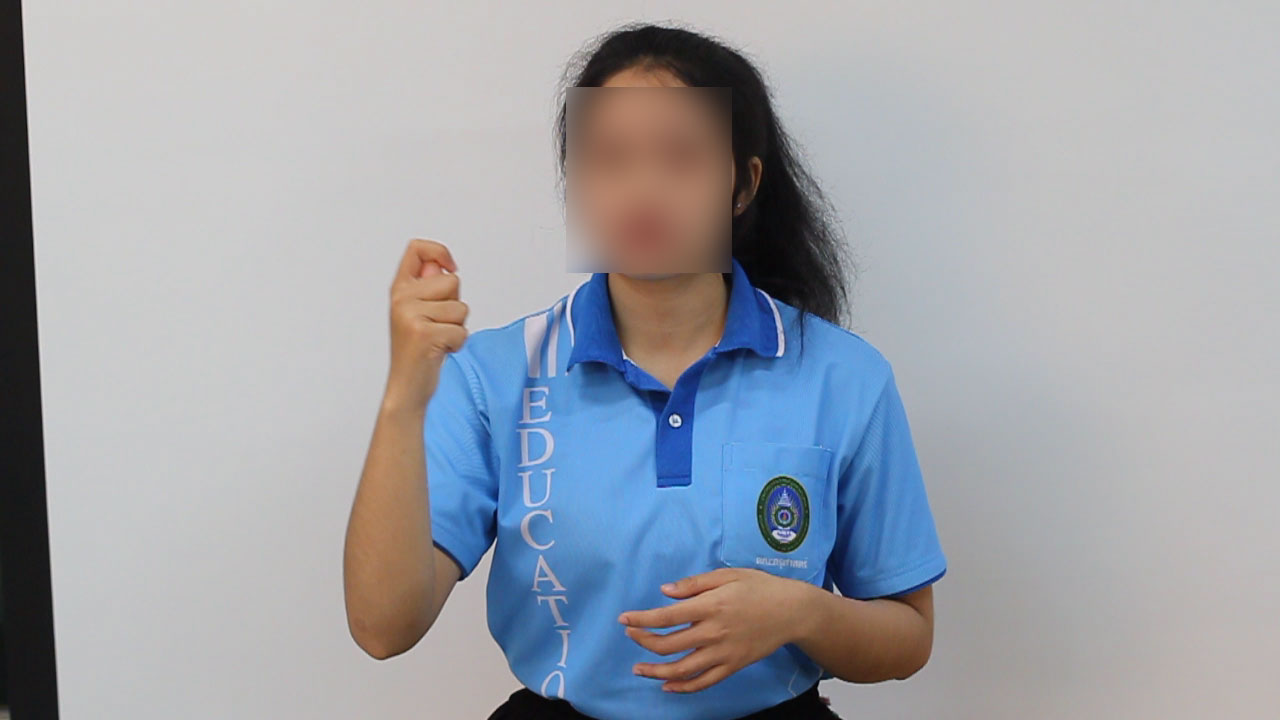or: (374, 231, 479, 403)
